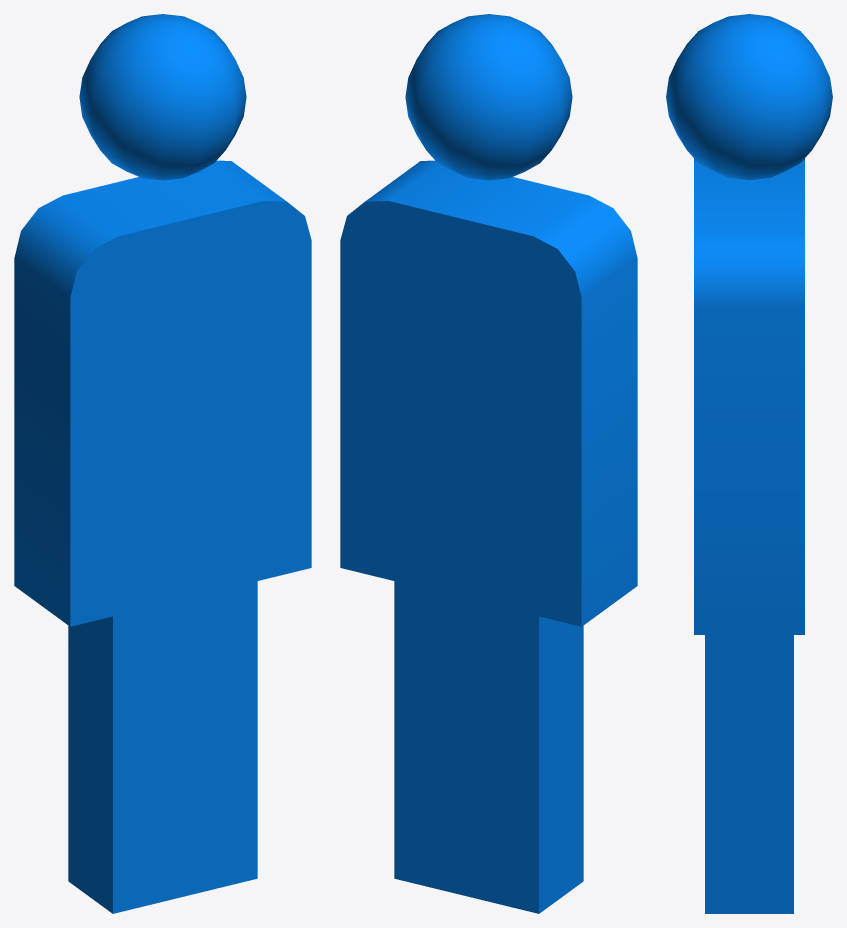
File: Pedestrian.glb
3 views of the same model, side by side, from view 1: azimuth 30°, elevation 25°; view 2: azimuth 150°, elevation 25°; view 3: azimuth 270°, elevation 25° (orthographic).
Parts seen in each view (by area): view 1: obj2; view 2: obj2; view 3: obj2.
Boxes of the visible parts, x1,y1,x2,y2 form: obj2: (14, 14, 311, 913); obj2: (340, 14, 637, 913); obj2: (666, 14, 832, 913).
Bounding box in the file's own units: 0.5 × 1.7 × 0.3.
